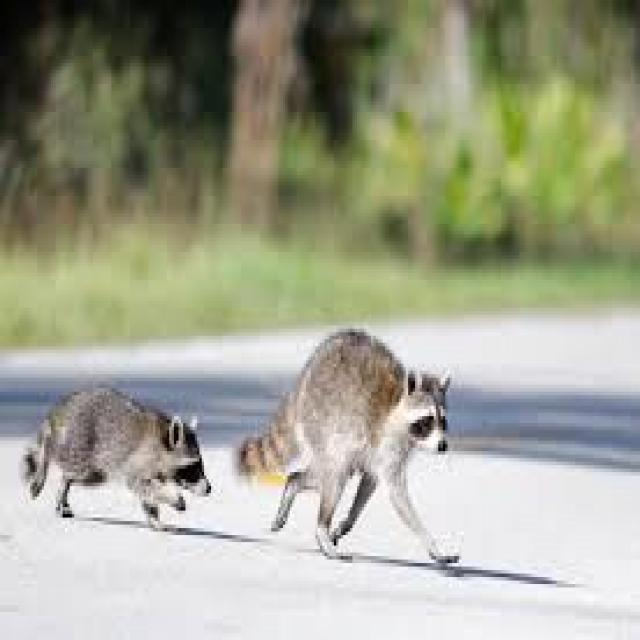racoon: (247, 301, 475, 590), (29, 354, 213, 536)
